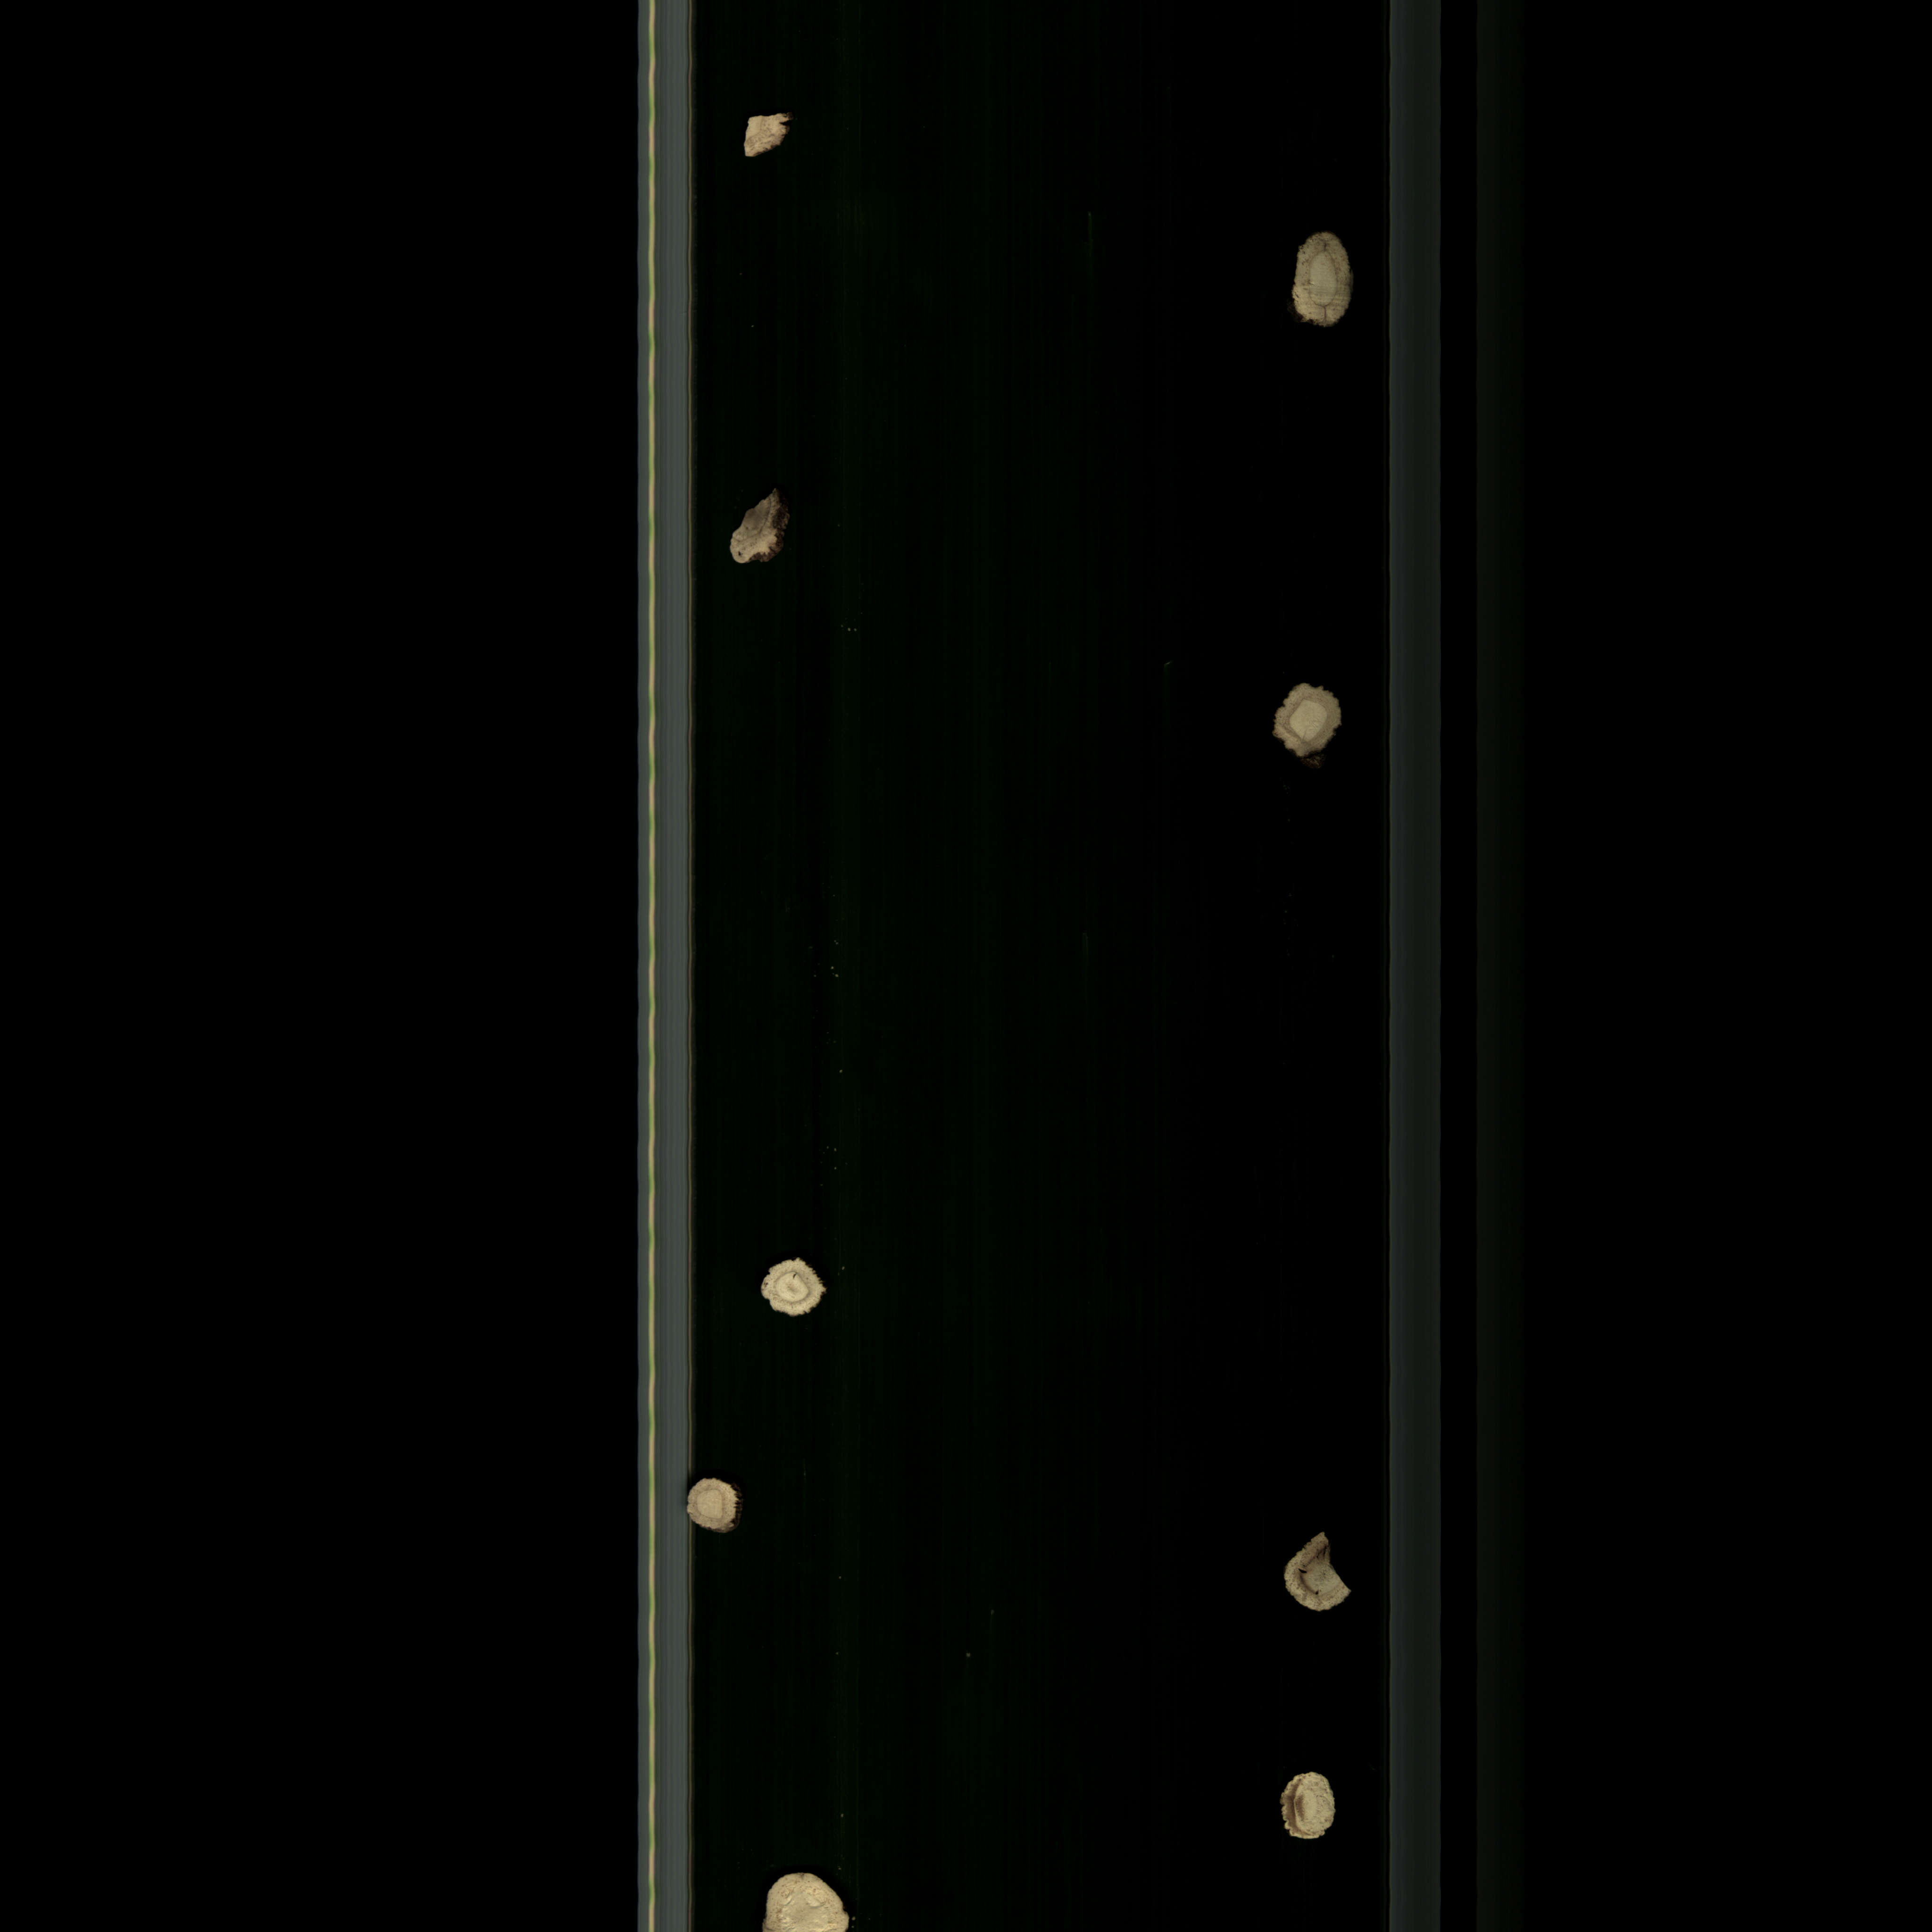hole: (750, 1253, 833, 1322)
moldy: (1274, 221, 1369, 350), (1277, 1525, 1368, 1626), (1263, 1759, 1346, 1851), (713, 481, 791, 577), (1270, 678, 1353, 766), (734, 104, 812, 165)
